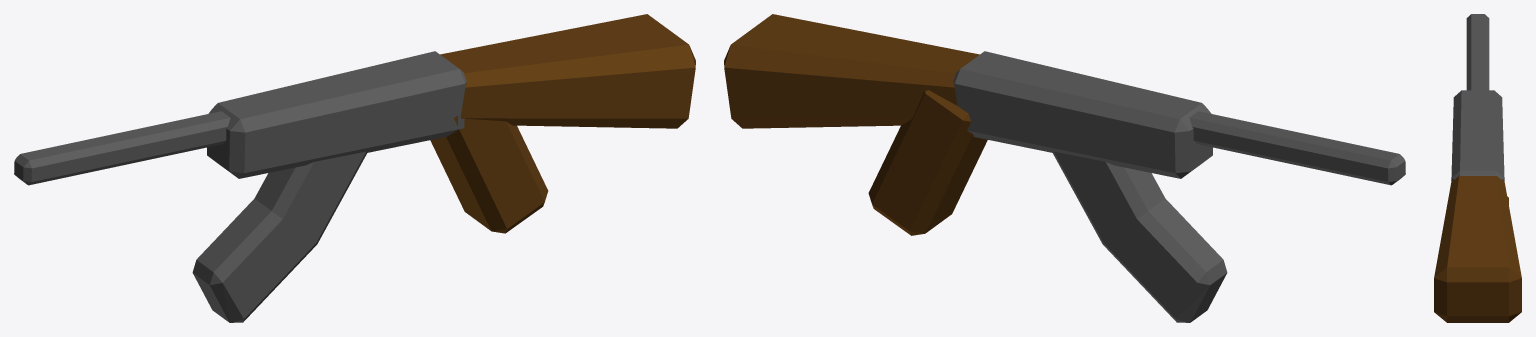
The picture shows the model from 3 angles, left to right: view 1: azimuth 30°, elevation 25°; view 2: azimuth 150°, elevation 25°; view 3: azimuth 270°, elevation 25°; orthographic projection. The views are drawn at different scales.
Visible parts, largest first — view 1: Cube_1, Cube, Cube_4, Cube_3, Cube_2; view 2: Cube_1, Cube, Cube_4, Cube_3, Cube_2; view 3: Cube_1, Cube, Cube_2.
Part boxes in pixels (left/top/right/bottom): Cube_1: left=440, top=14, right=695, bottom=128; Cube: left=207, top=51, right=466, bottom=178; Cube_4: left=192, top=151, right=366, bottom=322; Cube_3: left=430, top=115, right=548, bottom=233; Cube_2: left=14, top=111, right=230, bottom=185; Cube_1: left=724, top=14, right=979, bottom=128; Cube: left=953, top=51, right=1212, bottom=178; Cube_4: left=1053, top=151, right=1227, bottom=322; Cube_3: left=868, top=90, right=987, bottom=235; Cube_2: left=1189, top=111, right=1405, bottom=185; Cube_1: left=1434, top=176, right=1521, bottom=322; Cube: left=1451, top=90, right=1504, bottom=180; Cube_2: left=1466, top=14, right=1489, bottom=90.
Size of the model in its own units: 1336 by 409 by 210.
